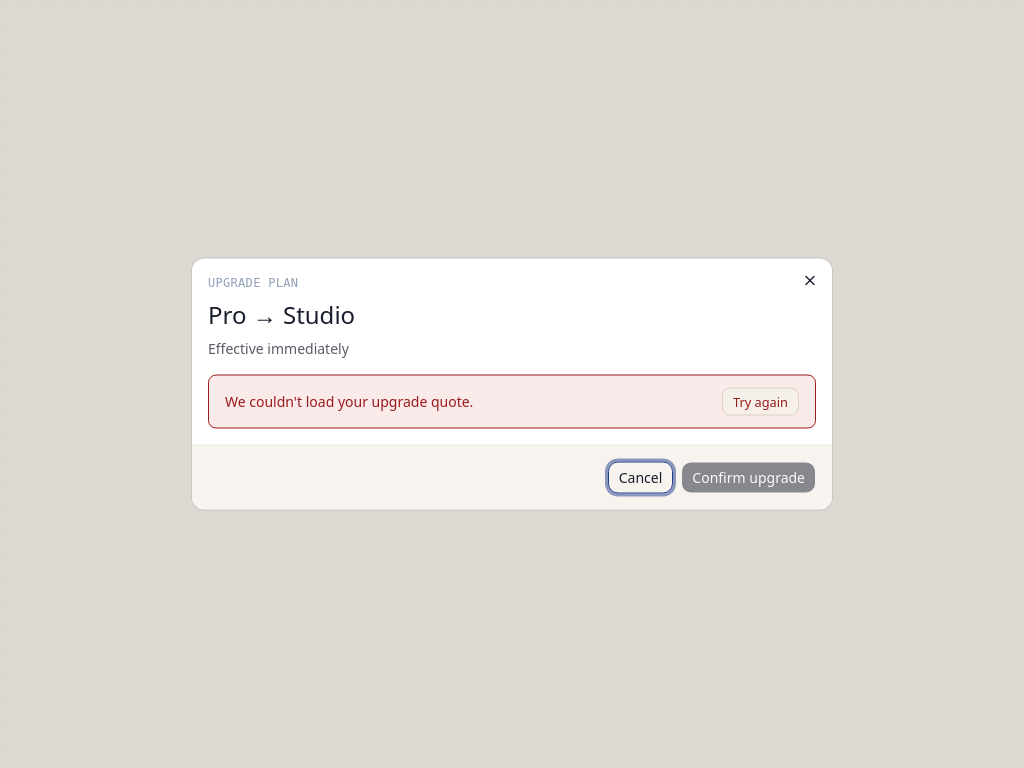
it: UpgradeModal (s71) › shows an inline retry on a proration error, then recovers (UX-1)
Click the button "Try again" at (760, 402), box [722,388,799,416]
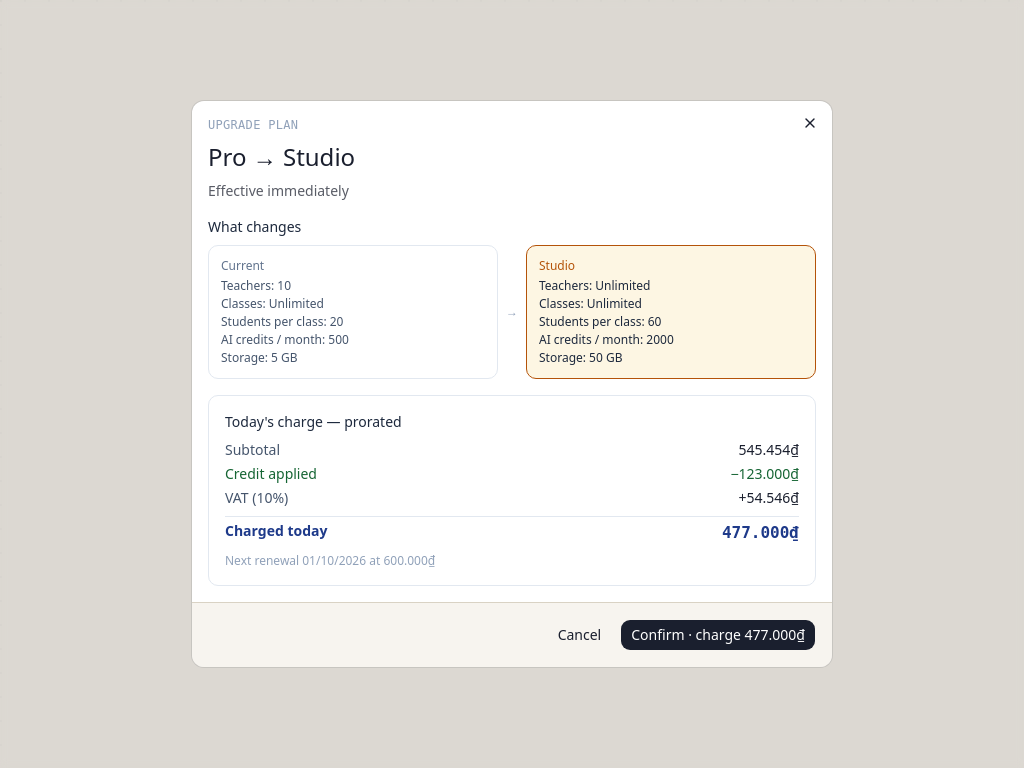
expect the element with test id "upgrade-modal-charge" is shown: met, box [208,395,816,586]
